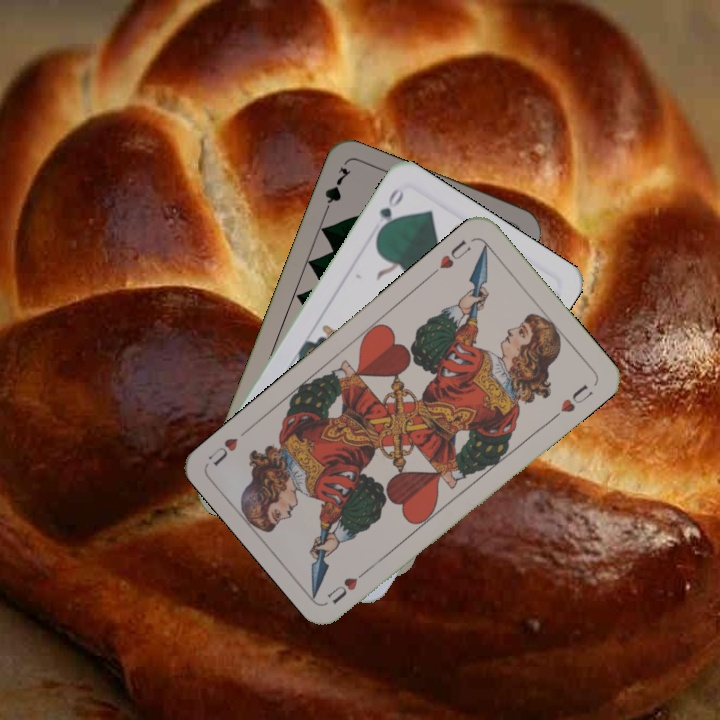G7: (319, 163, 354, 219)
GO: (372, 184, 407, 239)
HU: (322, 563, 373, 606), (435, 235, 474, 272)
